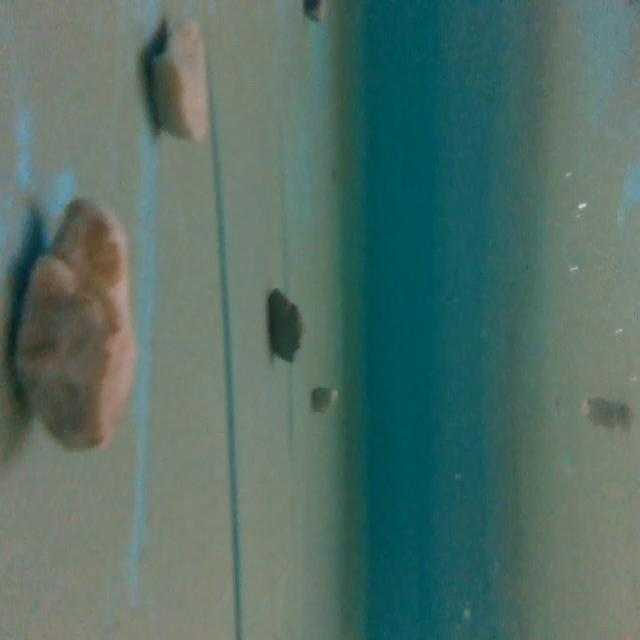rock: (10, 185, 140, 459), (139, 21, 222, 145), (261, 282, 304, 364)
